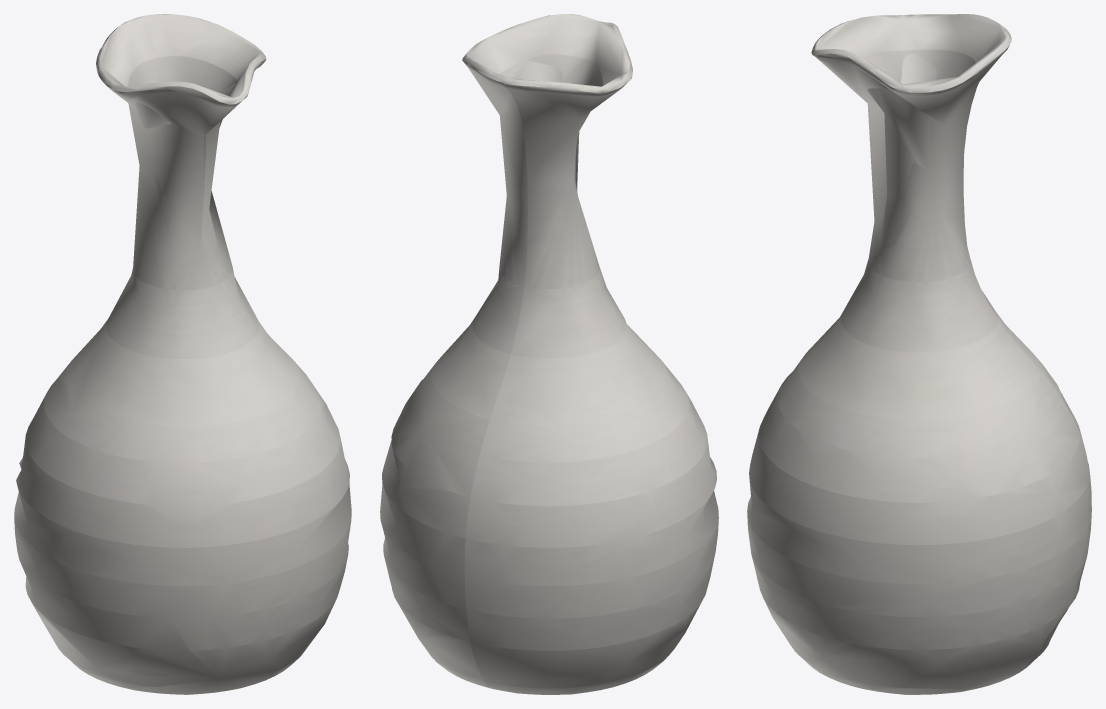
File: VaseCeramicBottle.obj
3 views of the same model, side by side, from view 1: azimuth 30°, elevation 25°; view 2: azimuth 150°, elevation 25°; view 3: azimuth 270°, elevation 25° (orthographic). The views are drawn at different scales.
Visible parts, largest first — view 1: Ceramic; view 2: Ceramic; view 3: Ceramic.
Part boxes in pixels (<box>): Ceramic: <box>14,14,351,694</box>; Ceramic: <box>380,14,718,694</box>; Ceramic: <box>747,14,1091,694</box>.
Bounding box in the file's own units: 0.2036 × 0.4003 × 0.2036.
1 material, 1 textured.
